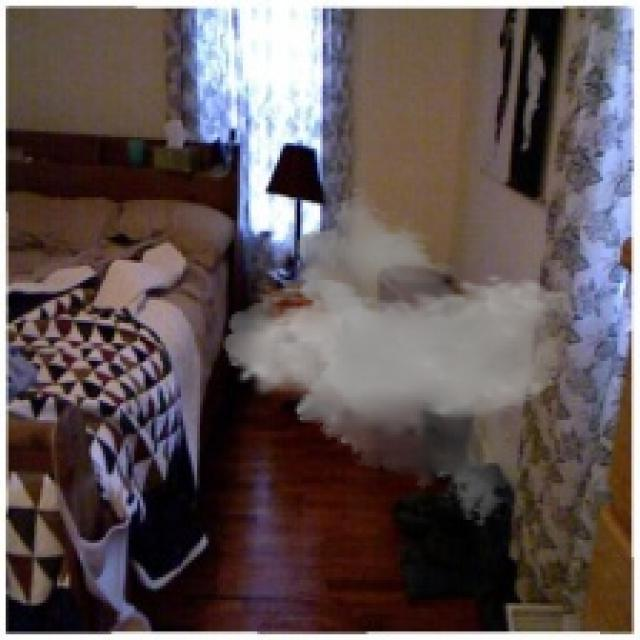Smoke: (222, 186, 574, 528)
